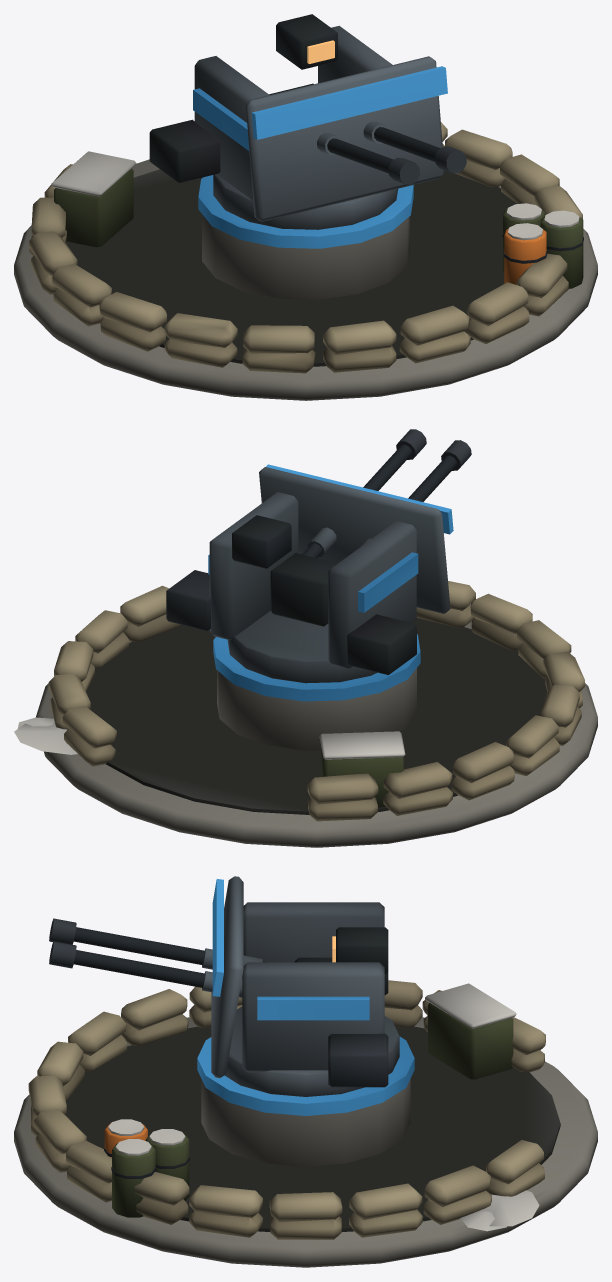
File: turret.glb
3 views of the same model, one above another, from view 1: azimuth 30°, elevation 25°; view 2: azimuth 150°, elevation 25°; view 3: azimuth 270°, elevation 25° (orthographic). The views are drawn at different scales.
Parts seen in each view (by area): view 1: turret_root_matte, turret_turret_metal, turret_turret_trim, turret_root_trim, turret_barrel_metal, turret_turret_glass; view 2: turret_root_matte, turret_turret_metal, turret_root_trim, turret_barrel_metal, turret_turret_trim; view 3: turret_root_matte, turret_turret_metal, turret_barrel_metal, turret_root_trim, turret_turret_trim.
Boxes of the visible parts, x1,y1,x2,y2 form: turret_root_matte: (14,122,597,400); turret_turret_metal: (149,14,444,229); turret_turret_trim: (193,66,447,150); turret_root_trim: (198,175,413,248); turret_barrel_metal: (317,121,466,184); turret_turret_glass: (307,40,334,63); turret_root_matte: (14,581,597,847); turret_turret_metal: (166,467,450,683); turret_root_trim: (213,634,420,701); turret_barrel_metal: (302,429,471,558); turret_turret_trim: (208,464,453,612); turret_root_matte: (14,980,597,1267); turret_turret_metal: (211,876,399,1096); turret_barrel_metal: (49,918,266,997); turret_root_trim: (197,1036,414,1115); turret_turret_trim: (212,879,369,1020).
Bounding box in the file's own units: 7.8 × 3.34 × 7.8.
